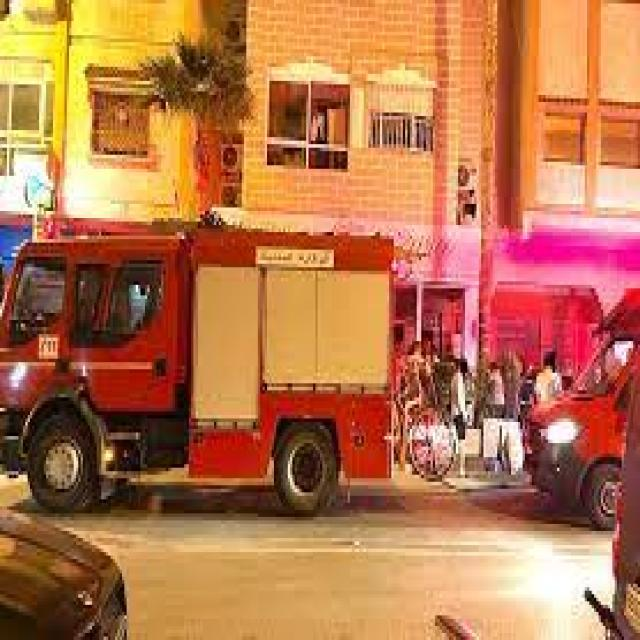pompier: (9, 223, 394, 514)
